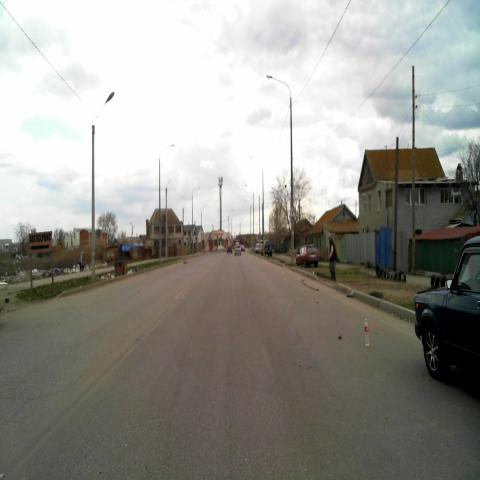1_11: (289, 206, 297, 218)
